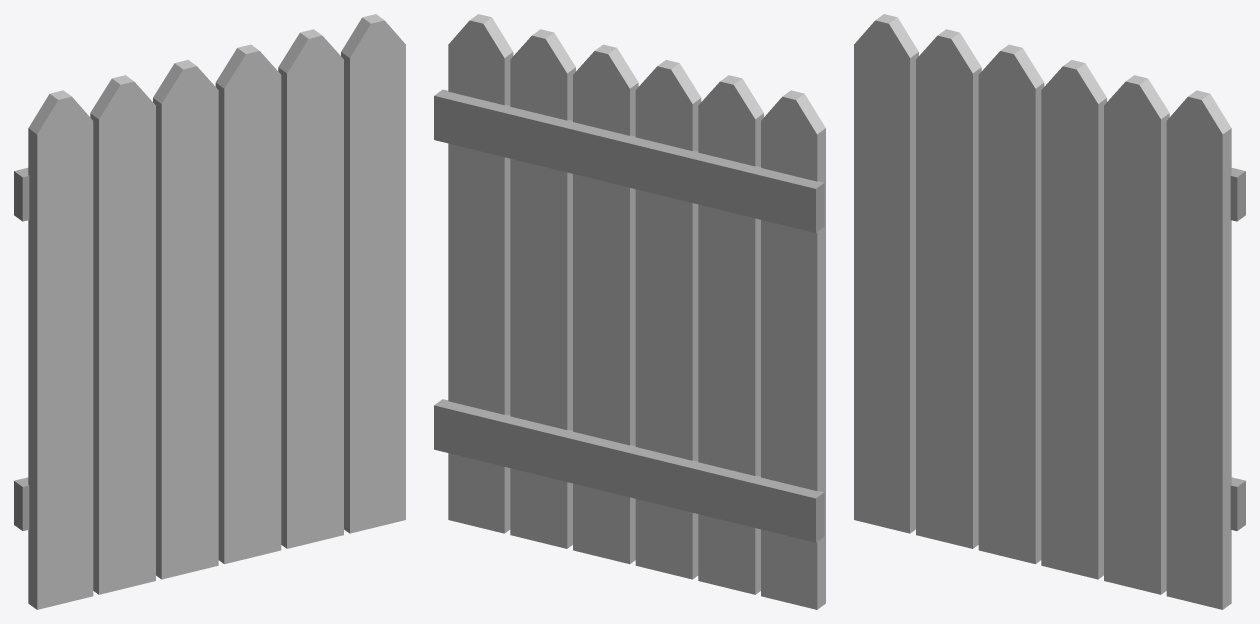
Rendered from Fence_05.fbx.
3 views of the same model, side by side, from view 1: azimuth 30°, elevation 25°; view 2: azimuth 150°, elevation 25°; view 3: azimuth 330°, elevation 25° (orthographic).
Visible parts, largest first — view 1: Fence_05; view 2: Fence_05; view 3: Fence_05.
Boxes of the visible parts, box(x1,y1,x2,y2) form: Fence_05: box(14, 14, 405, 609); Fence_05: box(434, 14, 825, 609); Fence_05: box(854, 14, 1245, 609).
Bounding box in the file's own units: 102 × 129 × 7.66.
